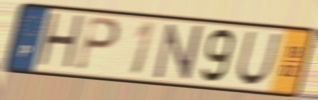1: (128, 19, 157, 78)
9: (199, 28, 235, 84)
H: (35, 11, 87, 74)
N: (152, 23, 205, 82)
P: (73, 15, 123, 74)
U: (234, 29, 283, 87)
